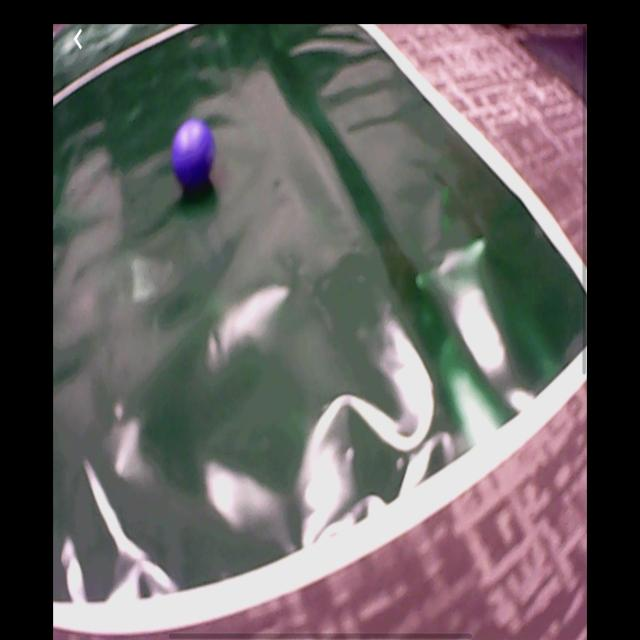ball: (172, 120, 218, 190)
